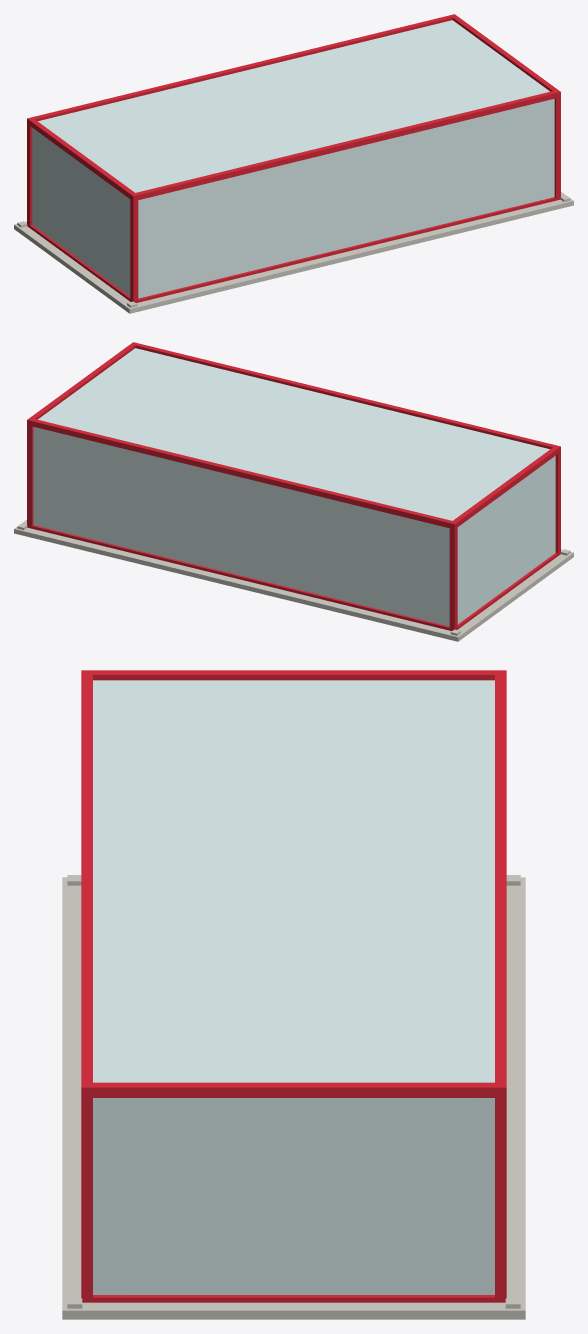
Rendered from ferrari-daytona-sp3.glb.
3 views of the same model, one above another, from view 1: azimuth 30°, elevation 25°; view 2: azimuth 150°, elevation 25°; view 3: azimuth 270°, elevation 25° (orthographic). The views are drawn at different scales.
Size of the model in its own units: 0.62 by 0.1495 by 0.28.
